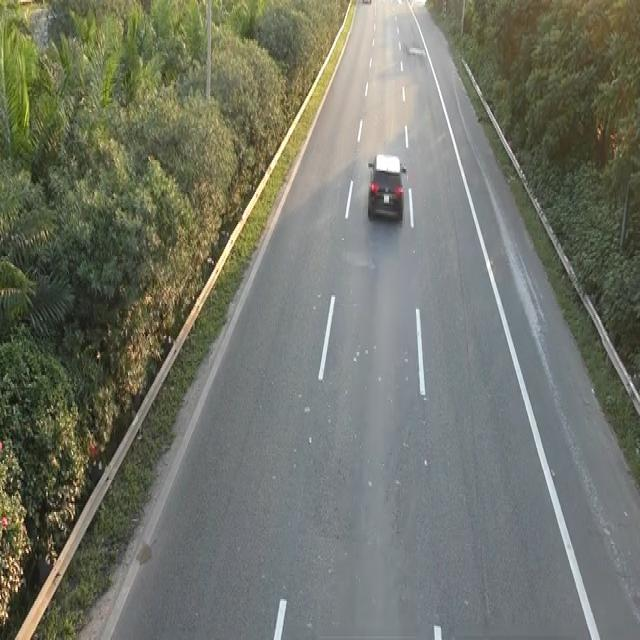car: (365, 150, 407, 222)
